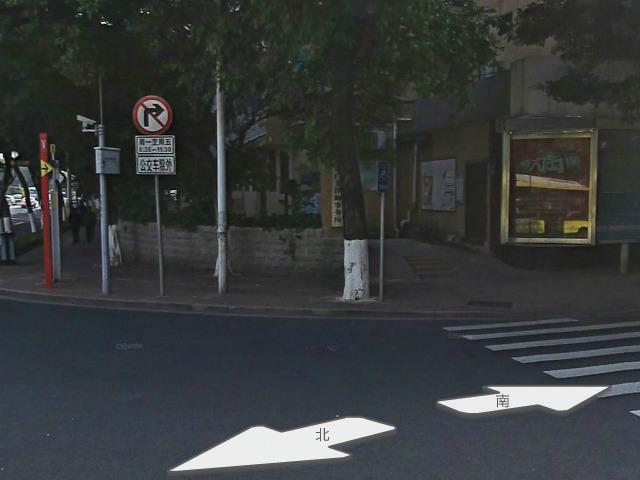not_turn_right: (134, 95, 172, 135)
